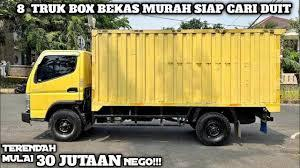truck: (14, 43, 109, 146)
